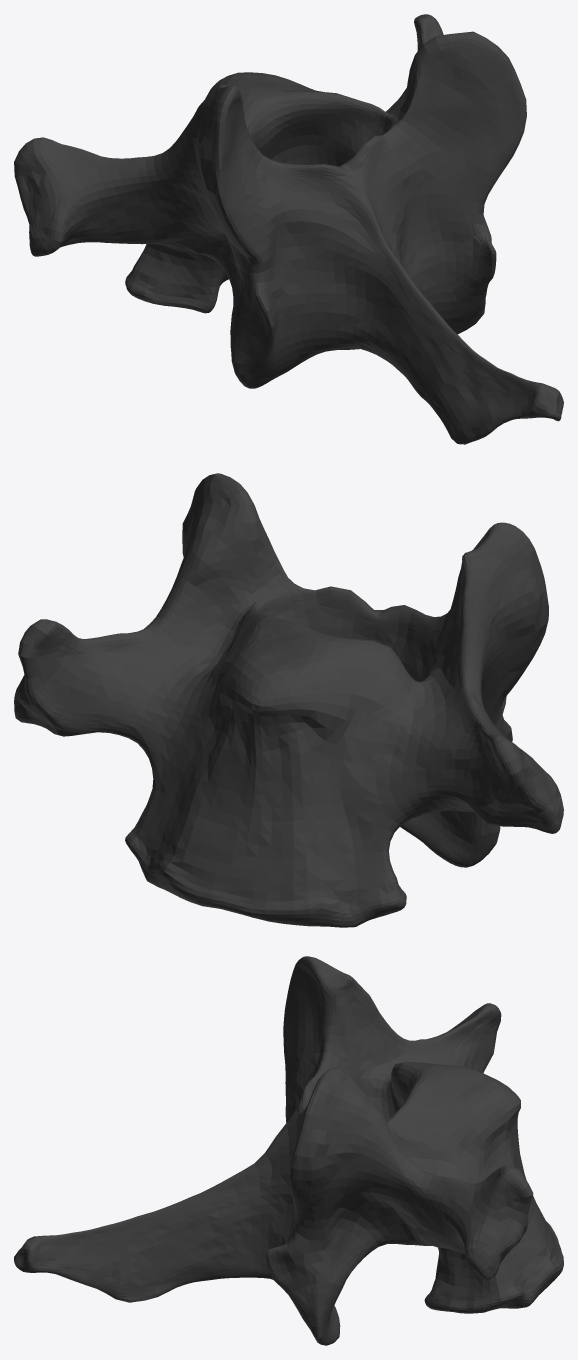
The picture shows the model from 3 angles, top to bottom: view 1: azimuth 30°, elevation 25°; view 2: azimuth 150°, elevation 25°; view 3: azimuth 270°, elevation 25°; orthographic projection. The views are drawn at different scales.
Parts seen in each view (by area): view 1: c7_low; view 2: c7_low; view 3: c7_low.
Boxes of the visible parts, x1,y1,x2,y2 form: c7_low: (14, 14, 563, 444); c7_low: (14, 473, 563, 927); c7_low: (14, 956, 563, 1345).
Size of the model in its own units: 52.62 by 33.66 by 58.28.
Materials: 1 (1 with a texture image).
